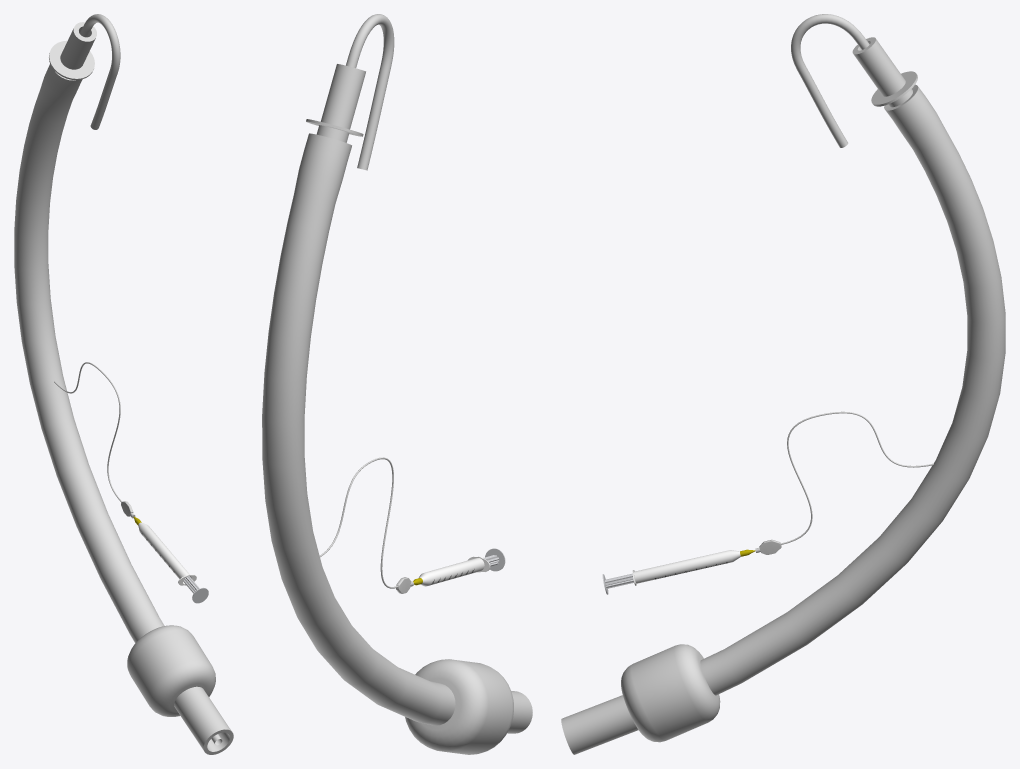
The picture shows the model from 3 angles, left to right: view 1: azimuth 30°, elevation 25°; view 2: azimuth 150°, elevation 25°; view 3: azimuth 270°, elevation 25°; orthographic projection. The views are drawn at different scales.
Parts seen in each view (by area): view 1: BézierCurve, Cylinder, BézierCurve.002, BézierCurve.001, barrel, BézierCurve.004; view 2: BézierCurve, Cylinder, BézierCurve.002, BézierCurve.001, barrel, BézierCurve.004; view 3: BézierCurve, Cylinder, BézierCurve.002, BézierCurve.001, barrel.
Part boxes in pixels (x1,y1,x2,y2): BézierCurve: (14, 64, 233, 754); Cylinder: (127, 625, 215, 716); BézierCurve.002: (49, 22, 96, 80); BézierCurve.001: (79, 14, 222, 745); barrel: (138, 522, 196, 585); BézierCurve.004: (54, 362, 121, 501); BézierCurve: (262, 133, 532, 733); Cylinder: (405, 659, 513, 754); BézierCurve.002: (306, 64, 365, 142); BézierCurve.001: (346, 14, 394, 170); barrel: (419, 556, 490, 586); BézierCurve.004: (319, 457, 398, 588); BézierCurve: (561, 84, 1005, 754); Cylinder: (621, 644, 720, 742); BézierCurve.002: (852, 37, 917, 107); BézierCurve.001: (791, 14, 869, 147); barrel: (632, 550, 740, 585).
Size of the model in its own units: 2.5 by 24.29 by 13.26.
5 materials, 5 textured.
